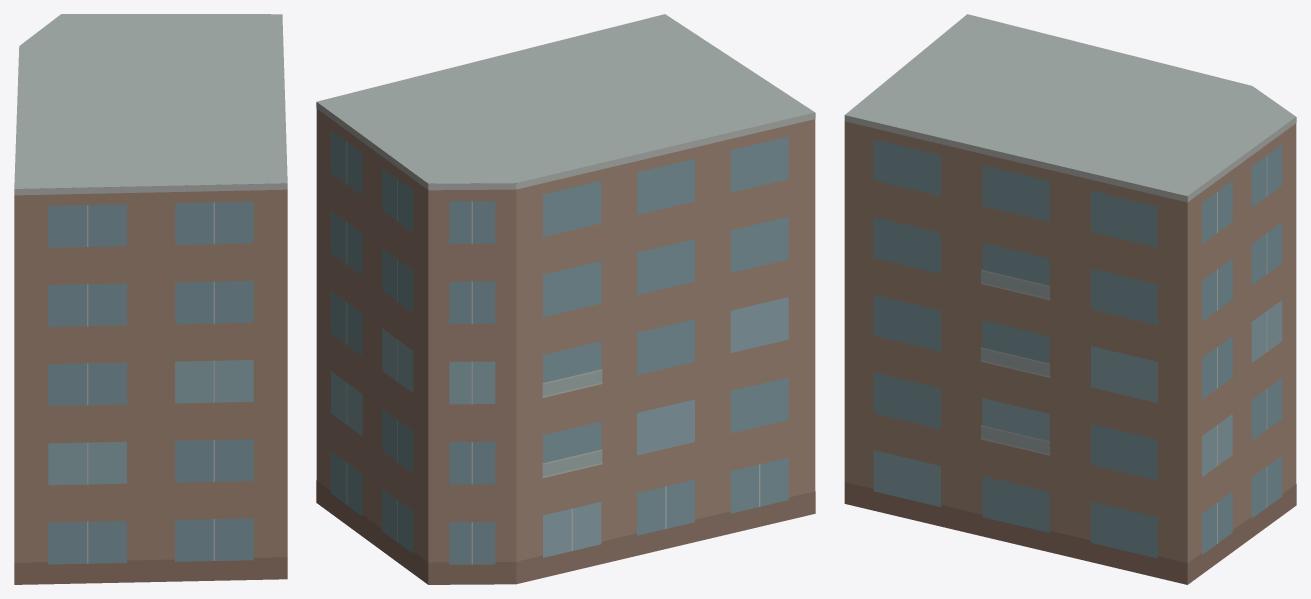
The model's file is survey-upis-32616484.glb.
The picture shows the model from 3 angles, left to right: view 1: azimuth 30°, elevation 25°; view 2: azimuth 150°, elevation 25°; view 3: azimuth 270°, elevation 25°; orthographic projection. The views are drawn at different scales.
Parts seen in each view (by area): view 1: survey-upis-32616484.tmp; view 2: survey-upis-32616484.tmp; view 3: survey-upis-32616484.tmp.
Boxes of the visible parts, left/top/right/bottom form: survey-upis-32616484.tmp: left=14, top=14, right=287, bottom=584; survey-upis-32616484.tmp: left=316, top=14, right=815, bottom=584; survey-upis-32616484.tmp: left=844, top=14, right=1296, bottom=584.
Bounding box in the file's own units: 15.19 × 15.1 × 15.92.
